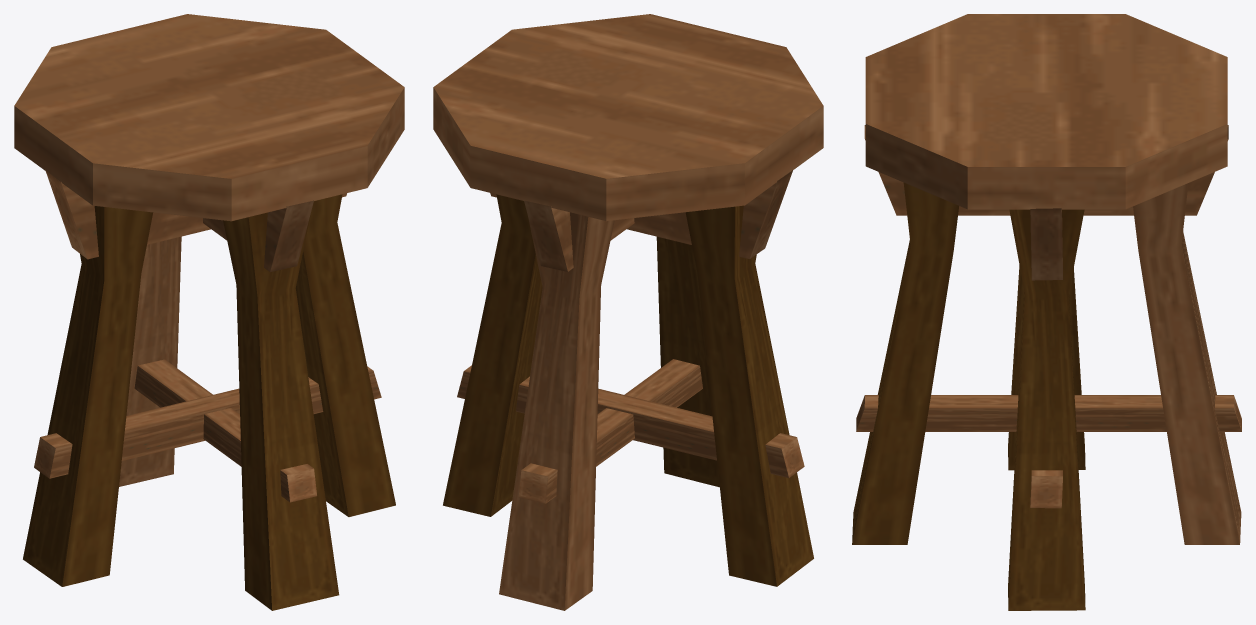
Rendered from Stool.glb.
The picture shows the model from 3 angles, left to right: view 1: azimuth 30°, elevation 25°; view 2: azimuth 150°, elevation 25°; view 3: azimuth 270°, elevation 25°; orthographic projection.
Parts seen in each view (by area): view 1: Stool; view 2: Stool; view 3: Stool.
Part boxes in pixels (box(x1,y1,x2,y2)): Stool: box(14, 14, 404, 610); Stool: box(433, 14, 823, 610); Stool: box(852, 14, 1241, 610).
Bounding box in the file's own units: 0.4746 × 0.5887 × 0.4746.
Materials: 1 (1 with a texture image).
